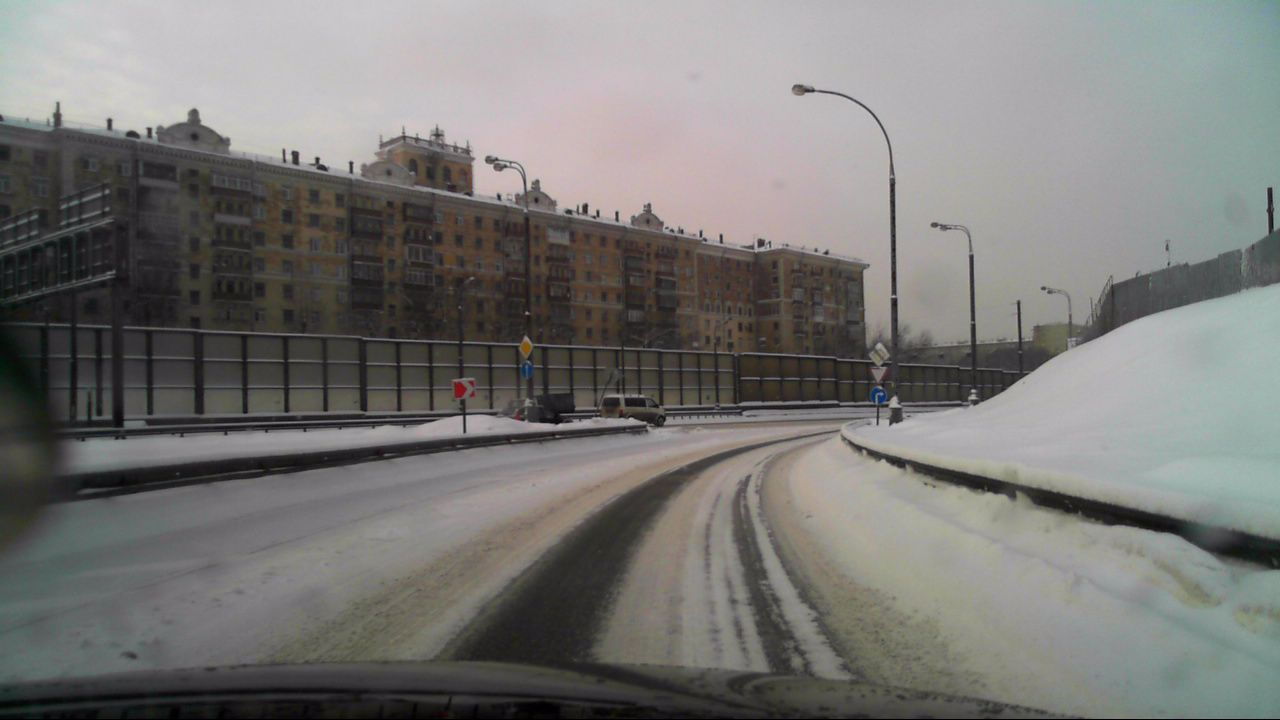main road: (867, 342, 889, 366)
